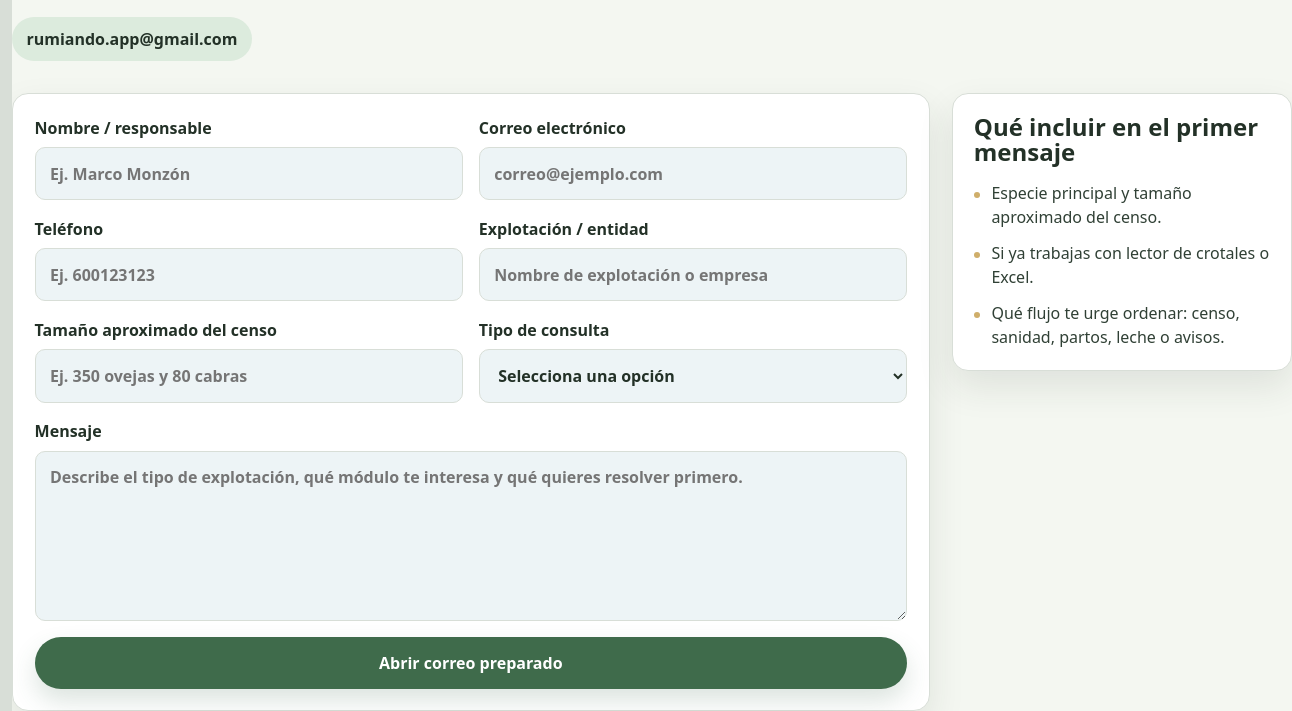
it: ContactPage › muestra errores si se intenta enviar vacío
The image size is (1292, 711).
(page scrolled)
Step 1. Click the button "Abrir correo preparado" → {"x": 471, "y": 663}, box [35, 637, 907, 689]
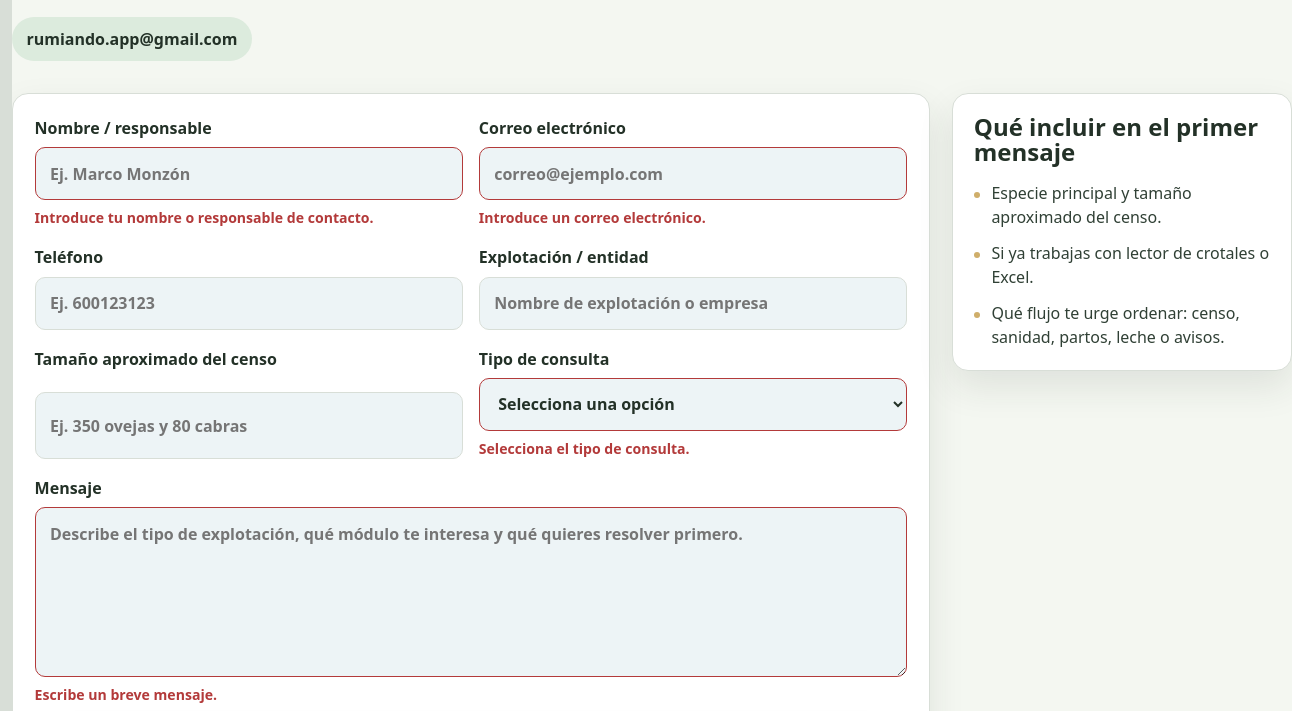
Check: the text "Introduce tu nombre o responsable de contacto." is shown, box [35, 208, 374, 228]
Check: the text "Introduce un correo electrónico." is shown, box [479, 208, 706, 228]
Check: the text "Selecciona el tipo de consulta." is shown, box [479, 439, 690, 458]
